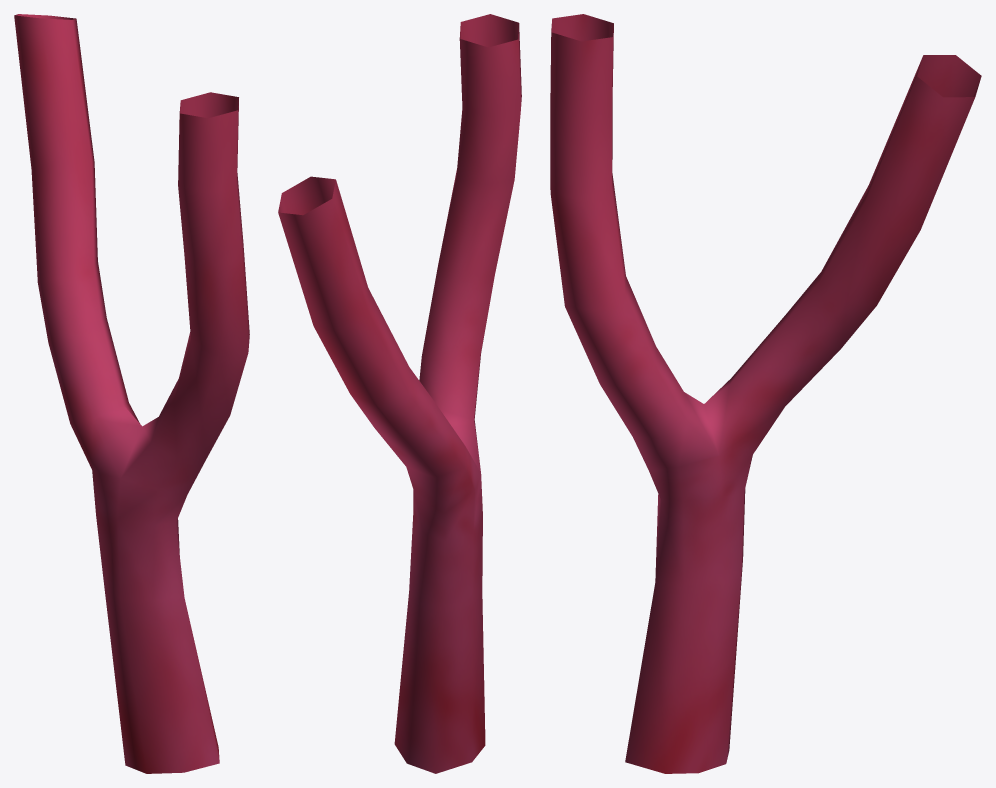
File: VeinLargeA.fbx
The picture shows the model from 3 angles, left to right: view 1: azimuth 30°, elevation 25°; view 2: azimuth 150°, elevation 25°; view 3: azimuth 270°, elevation 25°; orthographic projection. The views are drawn at different scales.
Parts seen in each view (by area): view 1: VeinLargeA; view 2: VeinLargeA; view 3: VeinLargeA.
Part boxes in pixels (x1=…): VeinLargeA: x1=14, y1=14, x2=249, y2=773; VeinLargeA: x1=278, y1=14, x2=521, y2=773; VeinLargeA: x1=550, y1=14, x2=981, y2=773.
Bounding box in the file's own units: 117 × 732 × 390.
